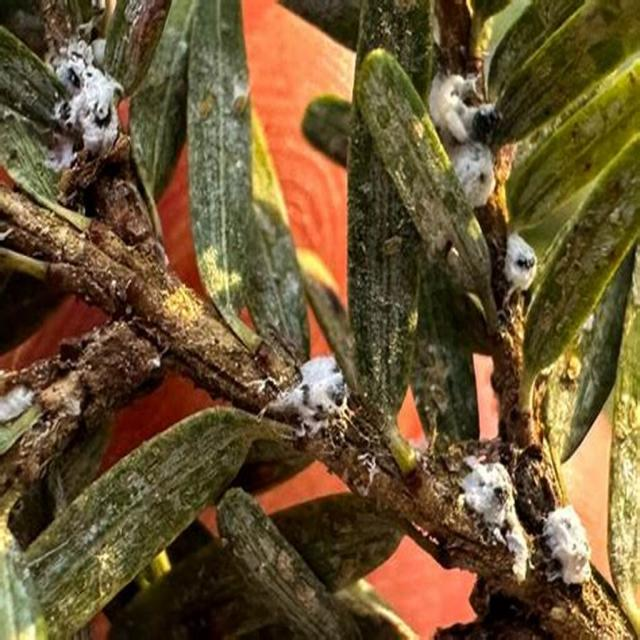Psyllid: (0, 408, 259, 639), (187, 0, 306, 358), (351, 48, 498, 329), (428, 46, 537, 308), (457, 437, 593, 597), (259, 356, 389, 494), (46, 35, 124, 170)
